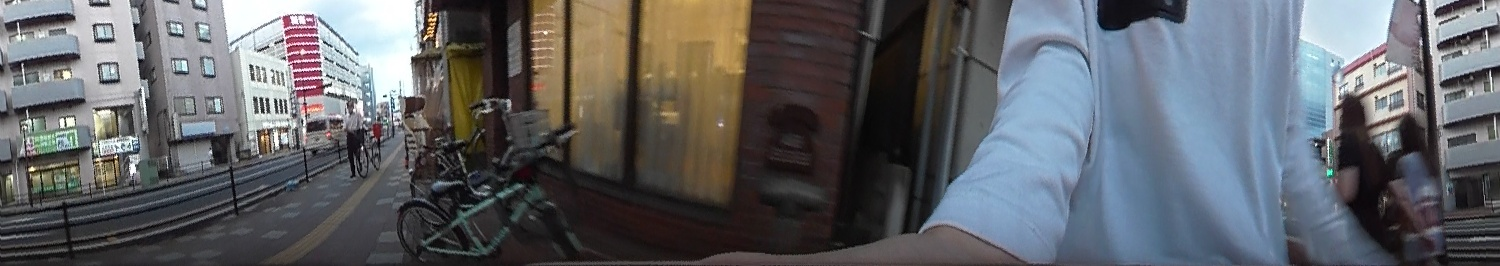person: (1329, 91, 1396, 255), (1387, 110, 1446, 255), (341, 96, 366, 175)
